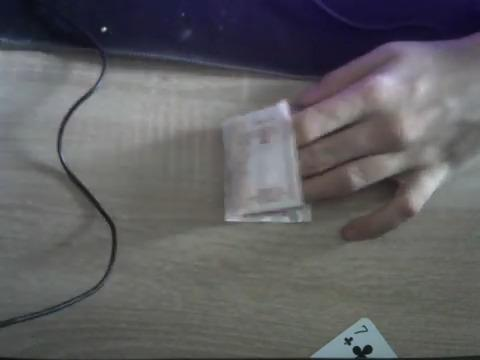5leva: (221, 100, 312, 224)
